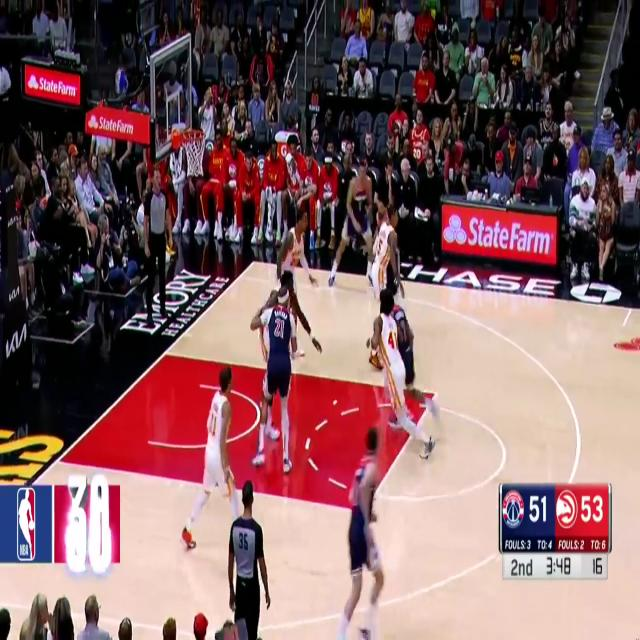Left Bottom Left Paint: (42, 436, 72, 484)
Left Bottom Right Paint: (349, 484, 380, 538)
Left Corner: (240, 237, 268, 287)
Left Tick: (621, 282, 640, 334)
Left Top Left Paint: (152, 332, 178, 374)
Left Top Right Paint: (419, 368, 451, 420)
